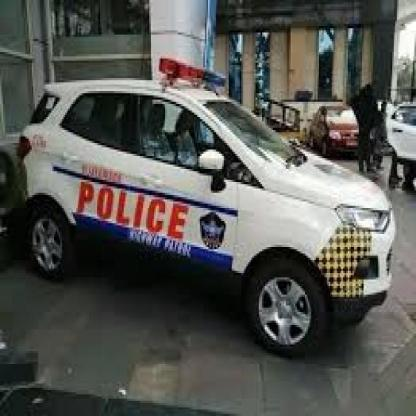priority: (20, 43, 404, 351)
